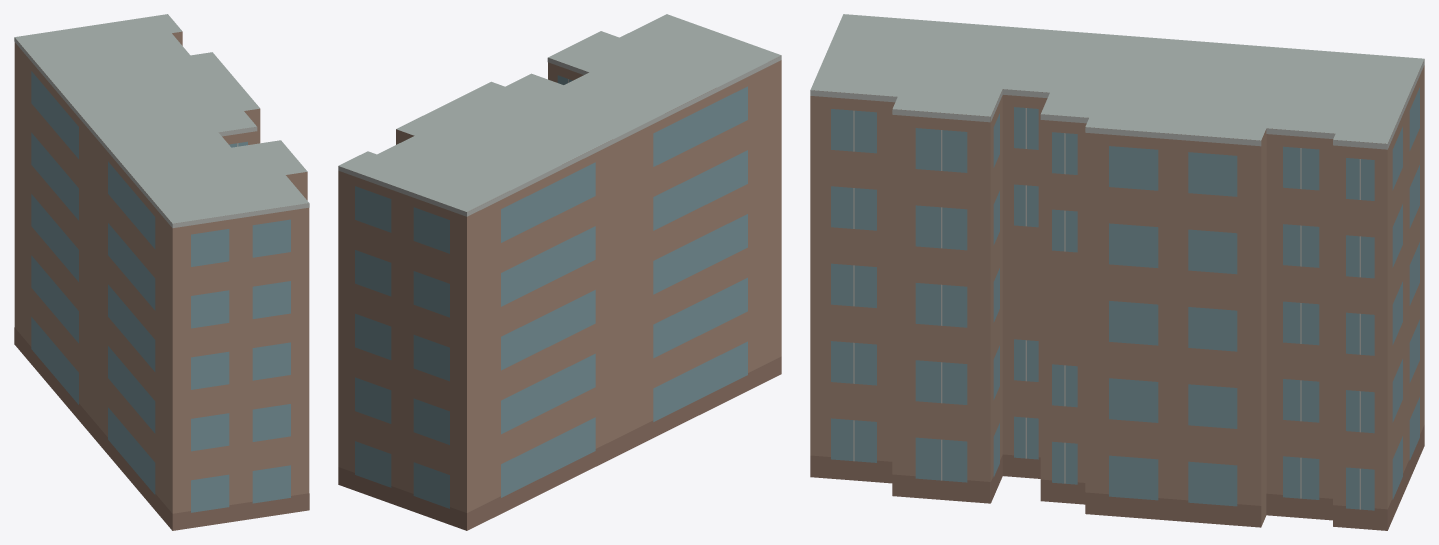
Rendered from survey-upis-33039408.glb.
3 renders of one model, left to right at view 1: azimuth 30°, elevation 25°; view 2: azimuth 150°, elevation 25°; view 3: azimuth 270°, elevation 25°, orthographic. The views are drawn at different scales.
Visible parts, largest first — view 1: survey-upis-33039408.tmp; view 2: survey-upis-33039408.tmp; view 3: survey-upis-33039408.tmp.
Part boxes in pixels (<box>): survey-upis-33039408.tmp: <box>14,14,309,530</box>; survey-upis-33039408.tmp: <box>338,14,781,530</box>; survey-upis-33039408.tmp: <box>810,14,1424,530</box>.
Bounding box in the file's own units: 11.9 × 16.52 × 23.78.
